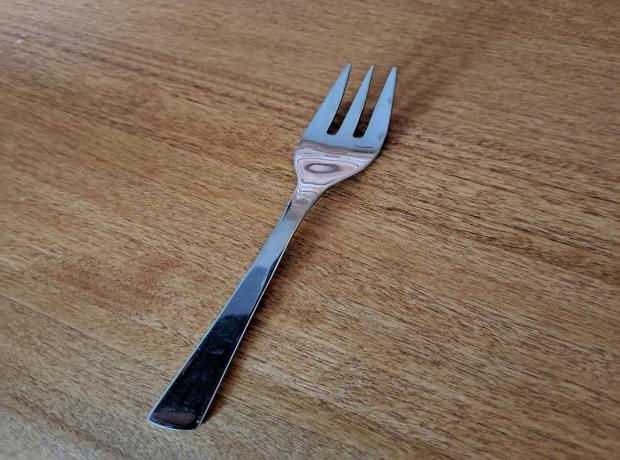metal: (146, 62, 406, 432)
